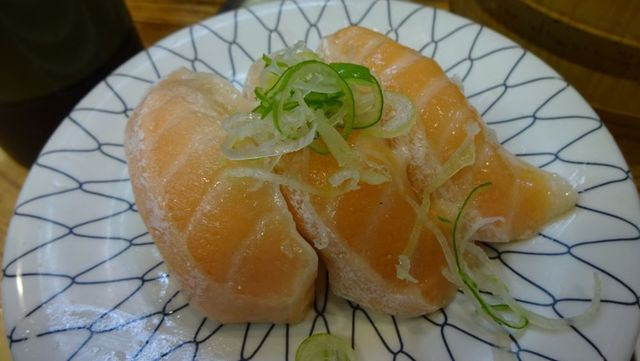salmon: (135, 67, 318, 326)
